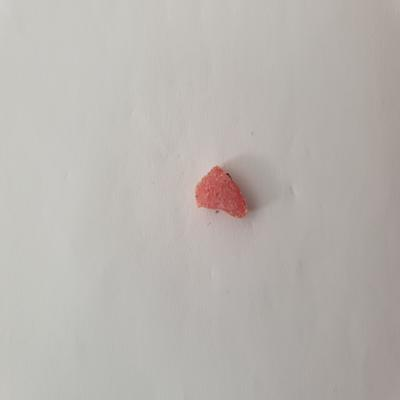plastic: (192, 164, 255, 226)
